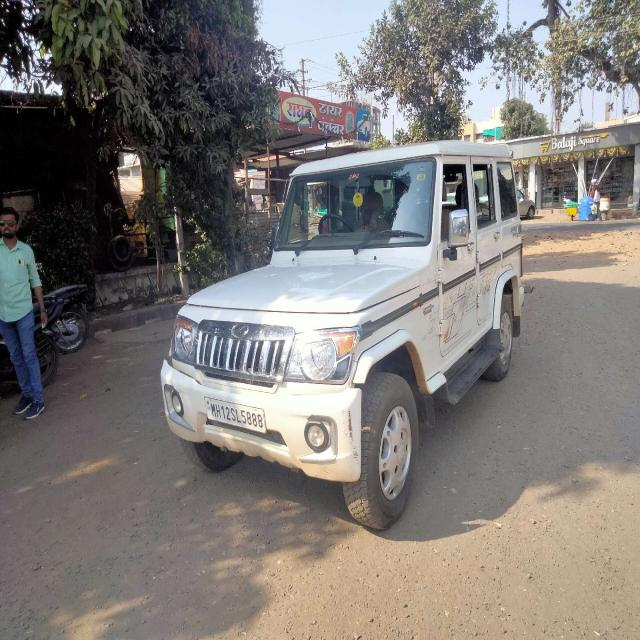light_vehicle: (156, 147, 528, 458)
